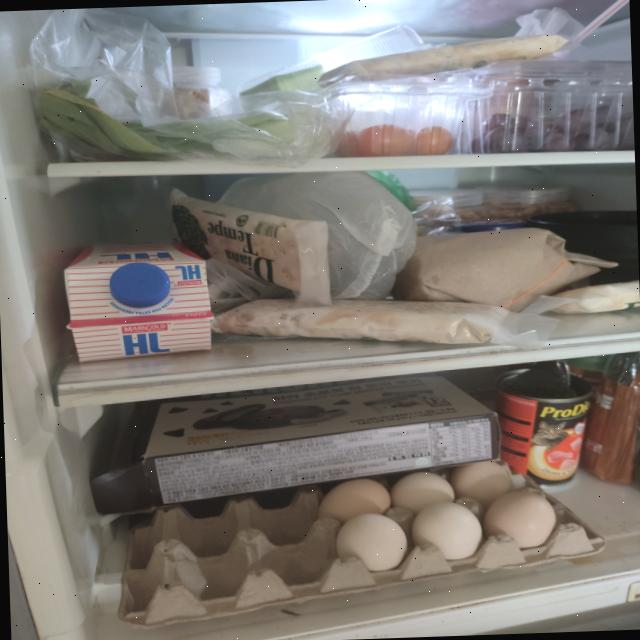egg: (112, 455, 609, 629)
grape: (468, 103, 634, 155)
pakchoy: (36, 77, 334, 169)
tempeh: (170, 182, 331, 311), (208, 290, 511, 353)
